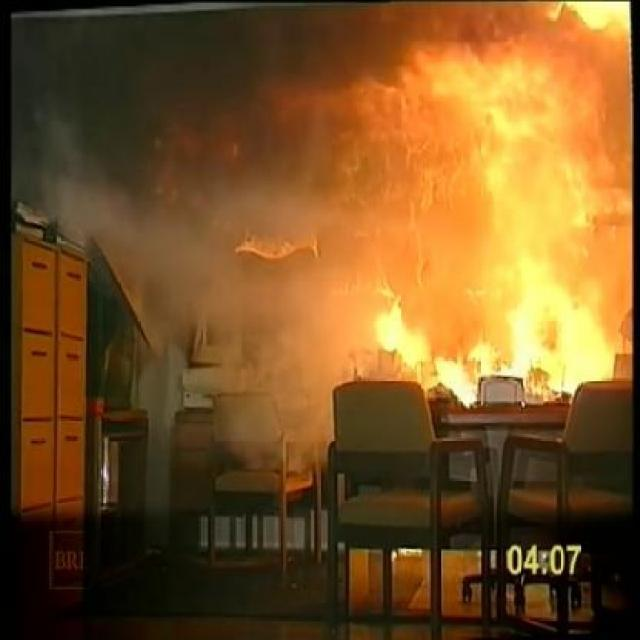fire: (321, 34, 610, 360)
smoke: (28, 69, 136, 234)
